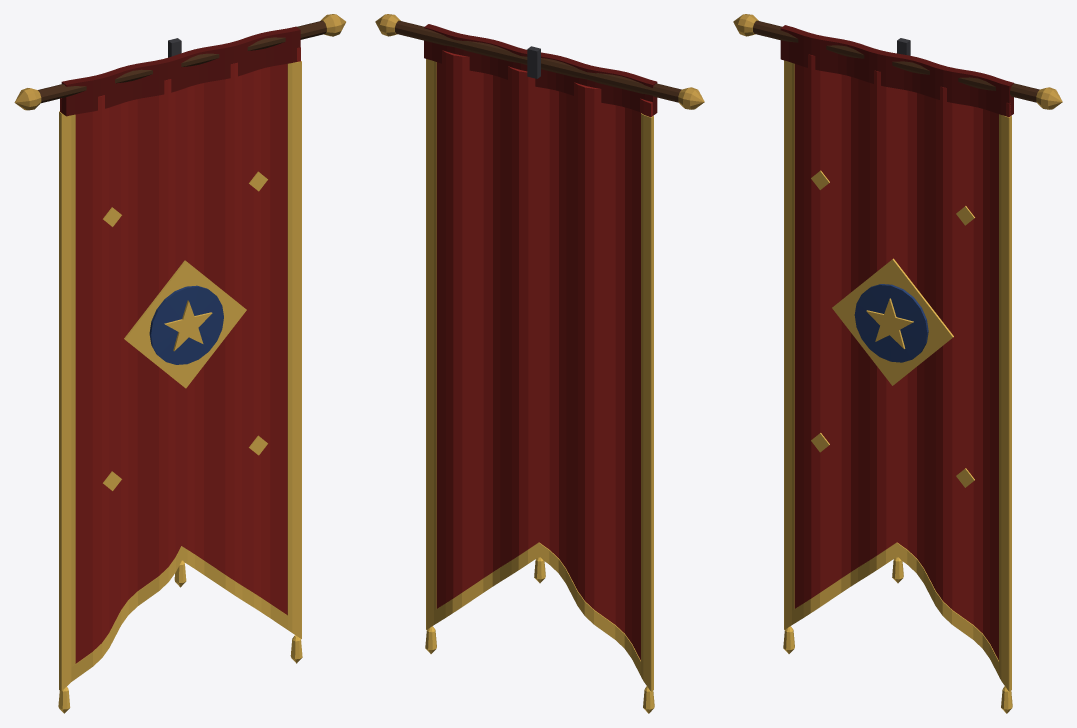
File: banner.obj
3 views of the same model, side by side, from view 1: azimuth 30°, elevation 25°; view 2: azimuth 150°, elevation 25°; view 3: azimuth 330°, elevation 25° (orthographic).
Parts seen in each view (by area): view 1: slab, slab.002, slab.003, slab.001, lathe.003, box.001, slab.004, lathe, prism; view 2: slab, slab.002, slab.003, slab.001, slab.004, lathe; view 3: slab, slab.003, slab.001, slab.002, lathe.003, box.001, slab.004, lathe, prism.
Boxes of the visible parts, <box> form: slab: <box>60,47,300,663</box>; slab.002: <box>59,111,75,691</box>; slab.003: <box>287,61,301,639</box>; slab.001: <box>61,26,300,116</box>; lathe.003: <box>149,285,223,364</box>; box.001: <box>124,260,246,388</box>; slab.004: <box>62,546,301,689</box>; lathe: <box>38,21,326,103</box>; prism: <box>164,300,212,351</box>; slab: <box>436,50,652,660</box>; slab.002: <box>641,113,653,691</box>; slab.003: <box>426,59,436,629</box>; slab.001: <box>424,24,657,115</box>; slab.004: <box>427,542,650,690</box>; lathe: <box>395,21,681,102</box>; slab: <box>794,54,1010,660</box>; slab.003: <box>999,114,1011,691</box>; slab.001: <box>780,25,1013,116</box>; slab.002: <box>784,60,794,629</box>; lathe.003: <box>854,284,928,362</box>; box.001: <box>832,258,953,385</box>; slab.004: <box>785,542,1005,686</box>; lathe: <box>753,21,1039,102</box>; prism: <box>866,298,913,348</box>.
Size of the model in its own units: 1 by 1.85 by 0.084.
